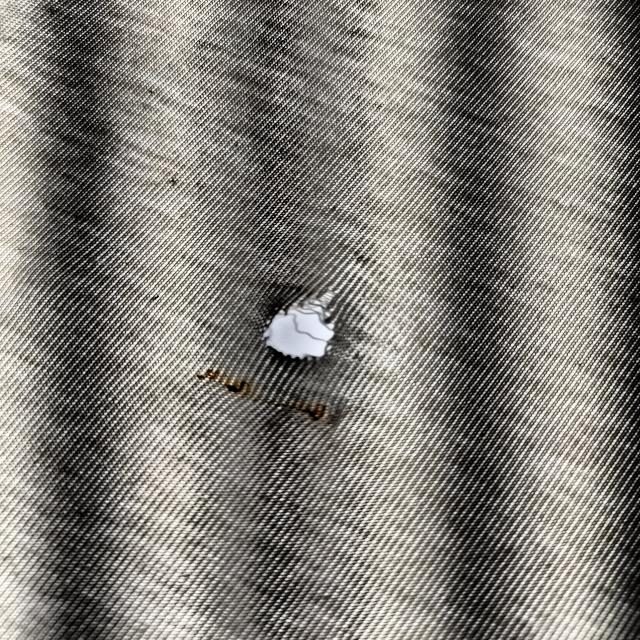Hole: (247, 282, 361, 376)
